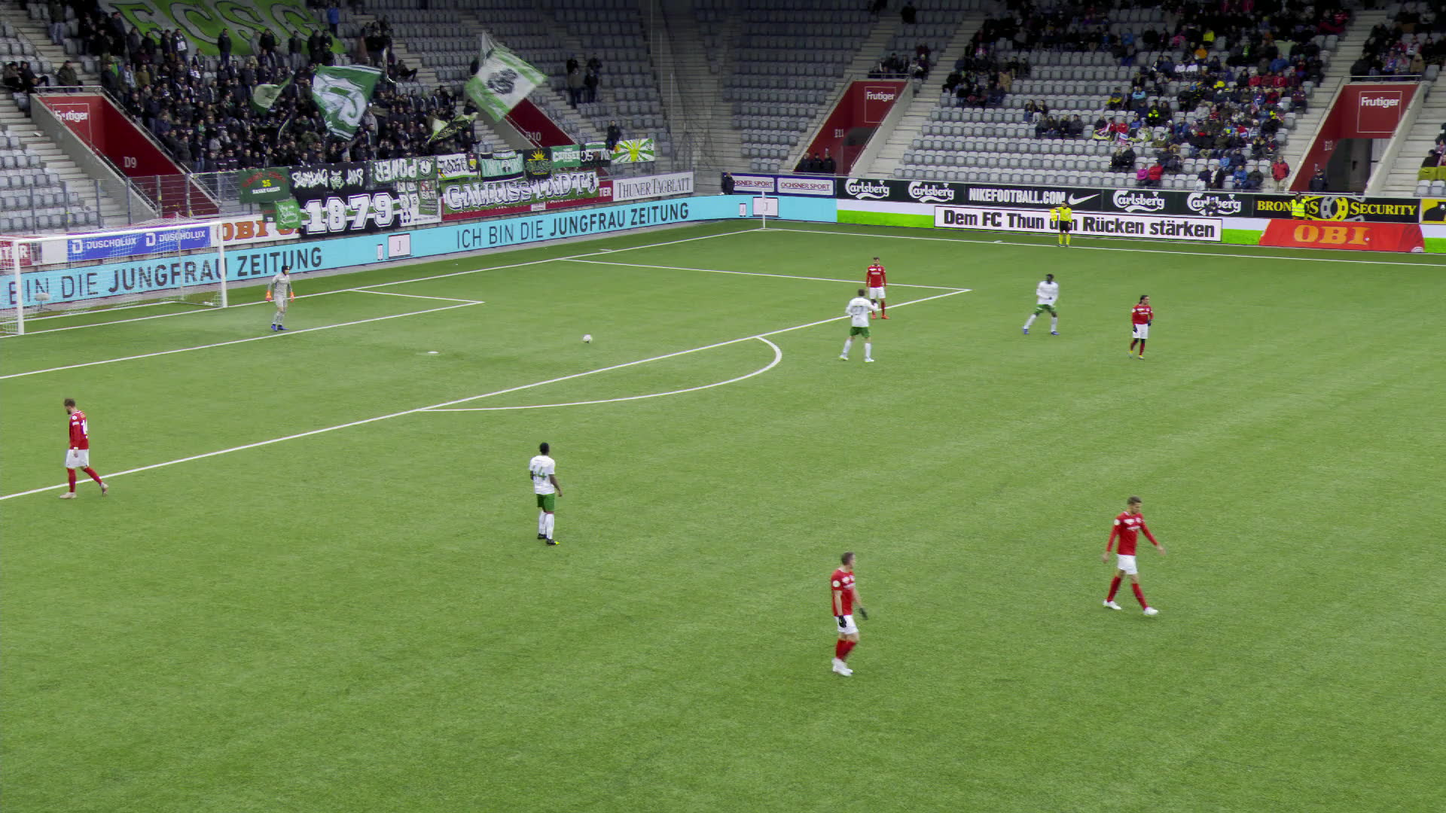ball: (581, 332, 593, 344)
player: (1098, 494, 1168, 617), (826, 550, 872, 678), (56, 396, 109, 498), (527, 439, 565, 546), (838, 286, 879, 362), (1020, 272, 1061, 335), (264, 264, 296, 333), (1125, 292, 1154, 361), (863, 256, 891, 321)
referee: (1050, 199, 1073, 247)
